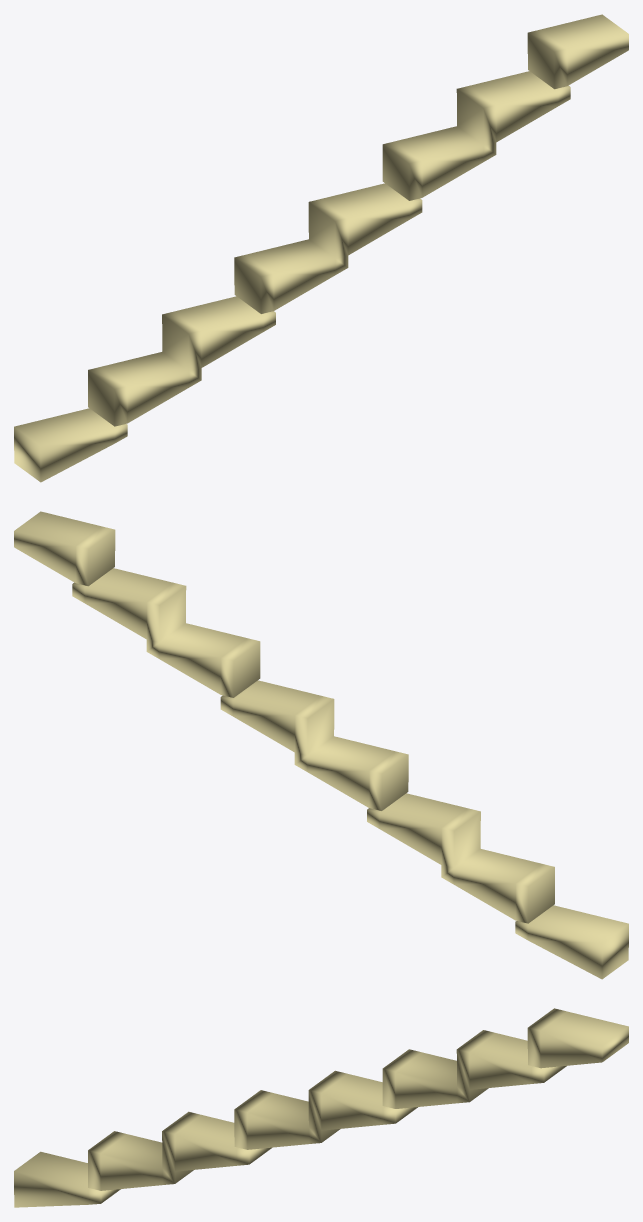
The model's file is Stairs_Wood_01B_Lod0.fbx.
3 renders of one model, top to bottom at view 1: azimuth 30°, elevation 25°; view 2: azimuth 150°, elevation 25°; view 3: azimuth 330°, elevation 25°, orthographic.
Parts seen in each view (by area): view 1: Stairs_Wood_01B_Lod0; view 2: Stairs_Wood_01B_Lod0; view 3: Stairs_Wood_01B_Lod0.
Part boxes in pixels (bbox=[...]): Stairs_Wood_01B_Lod0: bbox=[14, 14, 628, 482]; Stairs_Wood_01B_Lod0: bbox=[14, 511, 628, 979]; Stairs_Wood_01B_Lod0: bbox=[14, 1008, 628, 1207].
Bounding box in the file's own units: 297 × 147 × 23.26.
